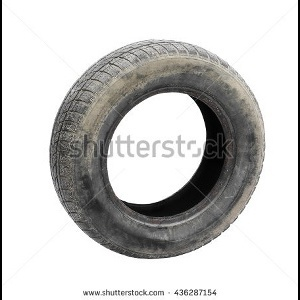tire: (48, 39, 265, 259)
